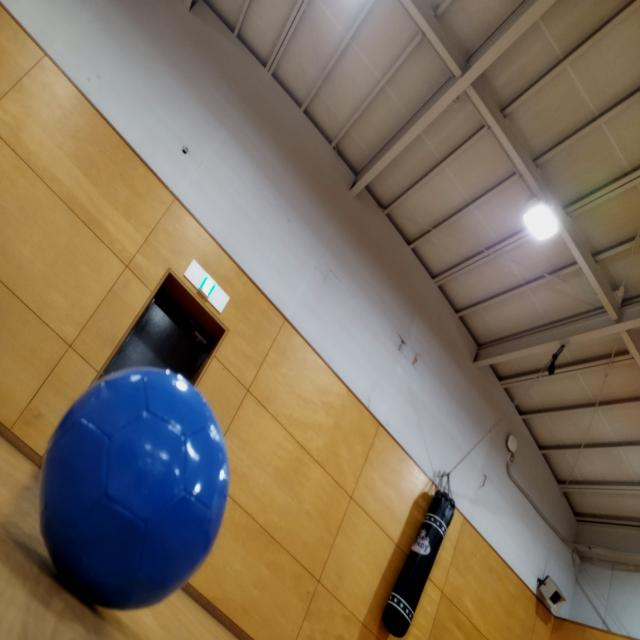blue_ball: (43, 368, 221, 611)
